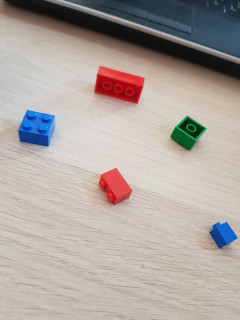1x1 blue: (210, 220, 238, 252)
1x2 red: (99, 167, 131, 206)
2x2 blue: (17, 109, 56, 148)
2x2 green: (170, 114, 206, 150)
2x4 red: (94, 64, 145, 106)
